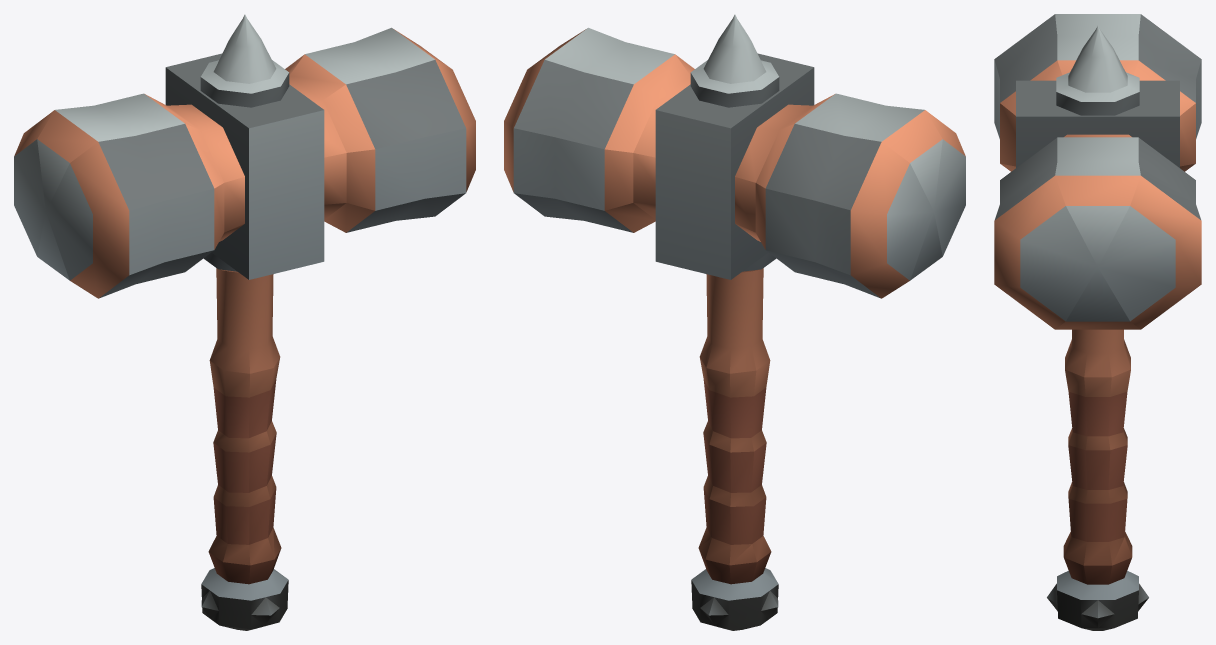
Rendered from hammer_mallet.glb.
The picture shows the model from 3 angles, left to right: view 1: azimuth 30°, elevation 25°; view 2: azimuth 150°, elevation 25°; view 3: azimuth 270°, elevation 25°; orthographic projection.
Parts seen in each view (by area): view 1: Item; view 2: Item; view 3: Item.
Boxes of the visible parts, box(x1,y1,x2,y2) form: Item: box(14, 14, 475, 630); Item: box(504, 14, 965, 630); Item: box(994, 14, 1201, 630).
Bounding box in the file's own units: 0.96 × 1.42 × 0.44.
3 materials, 3 textured.
